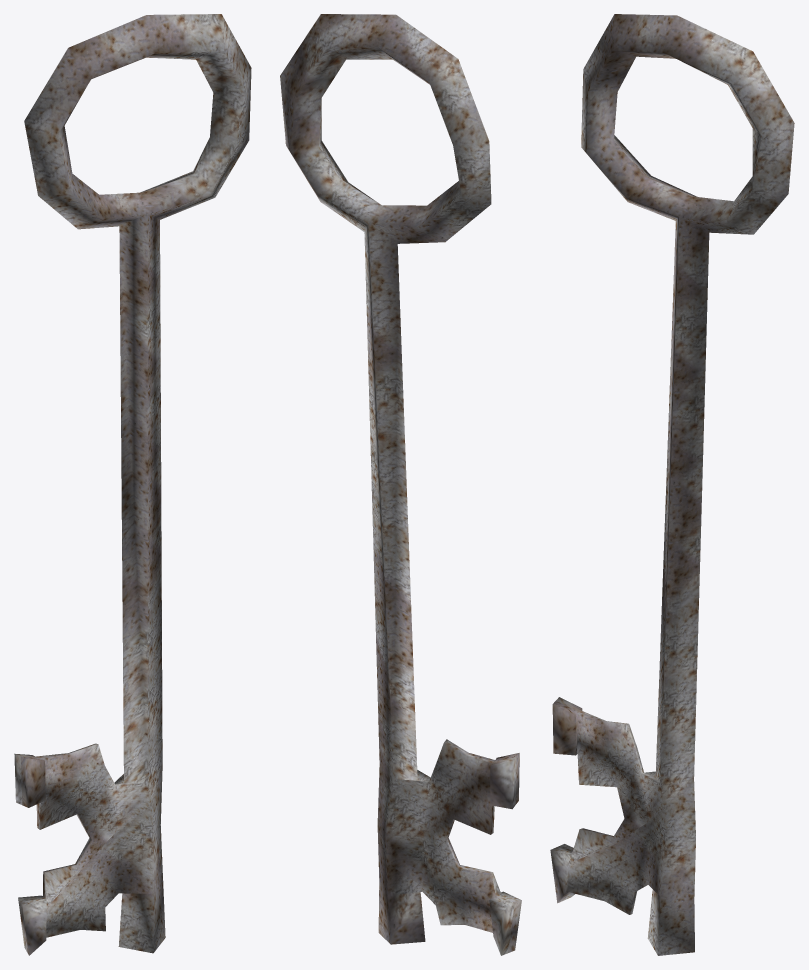
Rendered from GUIkey.FBX.
The picture shows the model from 3 angles, left to right: view 1: azimuth 30°, elevation 25°; view 2: azimuth 150°, elevation 25°; view 3: azimuth 330°, elevation 25°; orthographic projection.
Parts seen in each view (by area): view 1: default; view 2: default; view 3: default.
Boxes of the visible parts, x1,y1,x2,y2 form: default: (14, 14, 251, 955); default: (280, 14, 521, 955); default: (550, 14, 794, 955).
Size of the model in its own units: 7.9 by 29.71 by 2.18.
